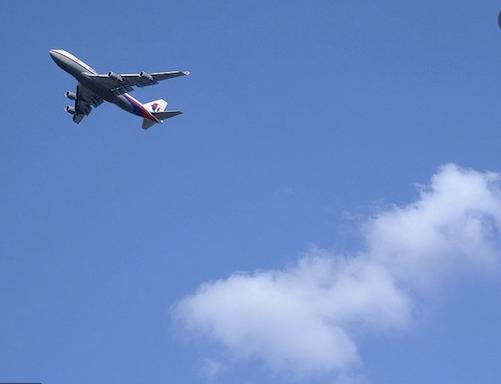aircraft: (48, 48, 191, 131)
